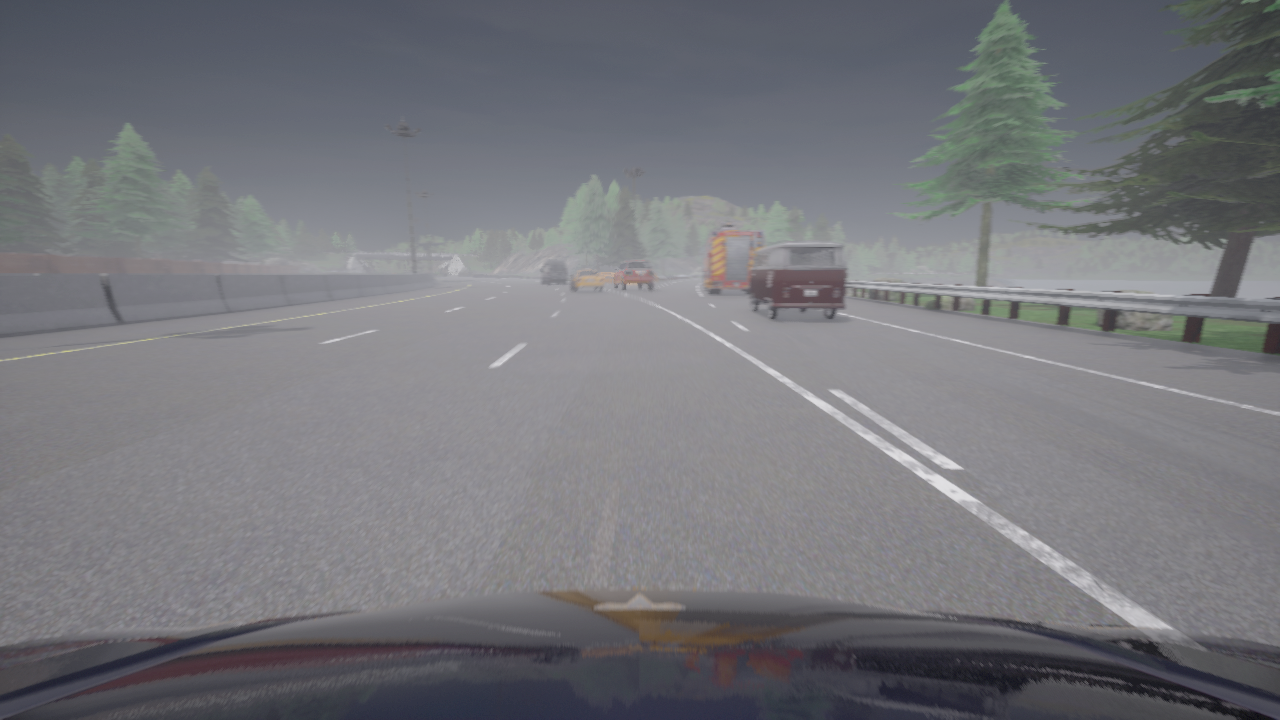cyclist: (0, 588, 1279, 719), (747, 241, 846, 319), (700, 221, 764, 294), (613, 260, 654, 290), (571, 267, 603, 291), (541, 259, 567, 283)
